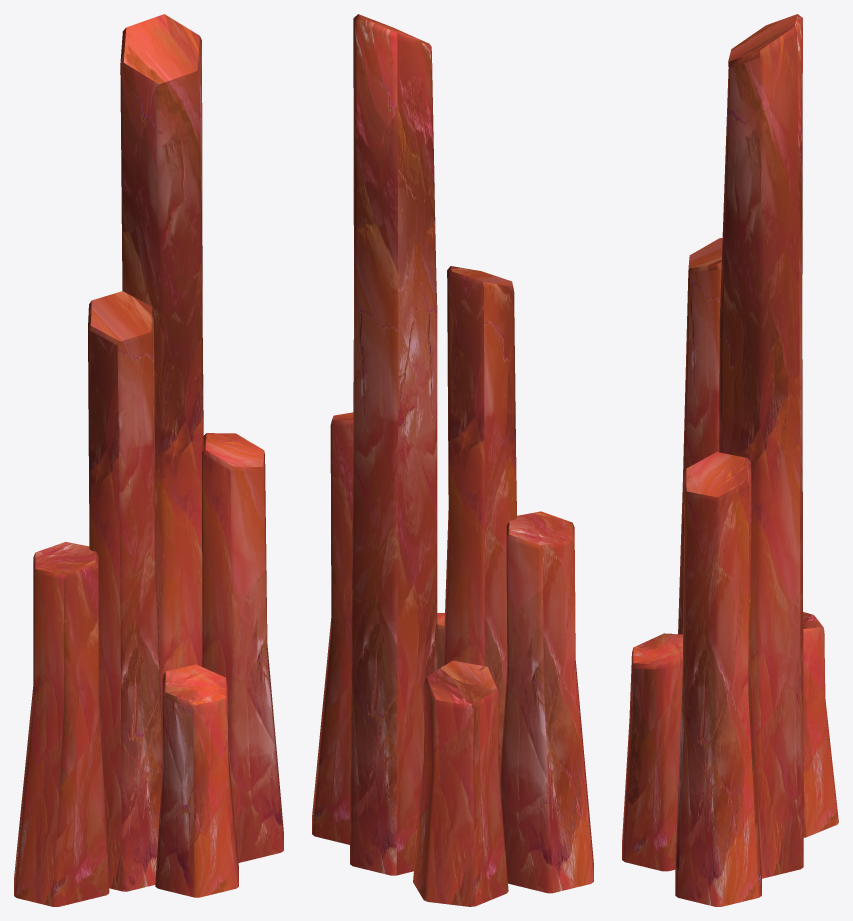
The model's file is 01.Cristales.fbx.
3 views of the same model, side by side, from view 1: azimuth 30°, elevation 25°; view 2: azimuth 150°, elevation 25°; view 3: azimuth 270°, elevation 25° (orthographic). The views are drawn at different scales.
Parts seen in each view (by area): view 1: ColumnaRoja; view 2: ColumnaRoja; view 3: ColumnaRoja.
Boxes of the visible parts, bbox=[...] form: ColumnaRoja: bbox=[14, 14, 283, 906]; ColumnaRoja: bbox=[312, 14, 593, 906]; ColumnaRoja: bbox=[622, 14, 838, 906].
Bounding box in the file's own units: 12.68 × 36.79 × 8.62.
1 material, 1 textured.
